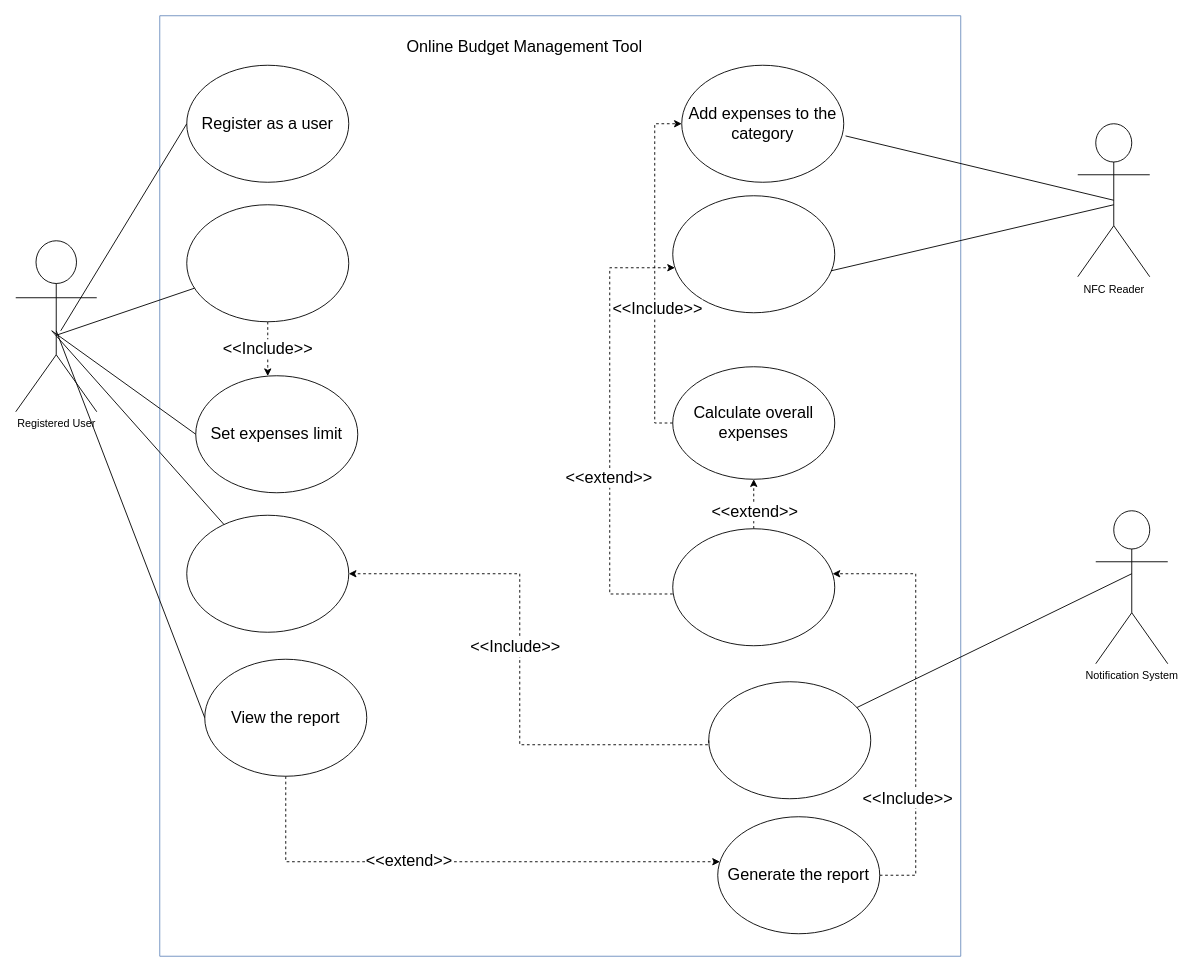
Image size: 1193x972. Some labels were removed from this diagram. Here are the shapes that lost their labels. From the top down, the box of each, then its label:
(186, 204, 349, 322): Create Budget Categories
(672, 195, 835, 313): Add income to the user's account
(186, 514, 349, 632): Set up the alert
(672, 528, 835, 646): Display the remaining budget balance
(708, 681, 871, 799): Alert the users
